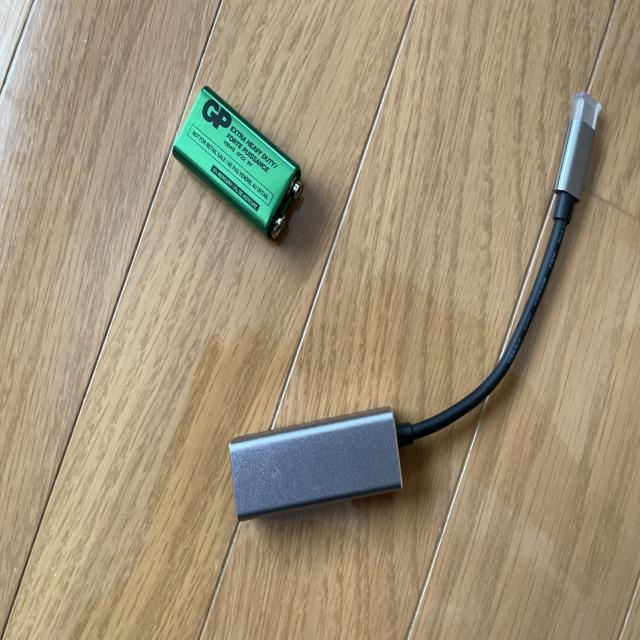9V: (172, 87, 302, 239)
